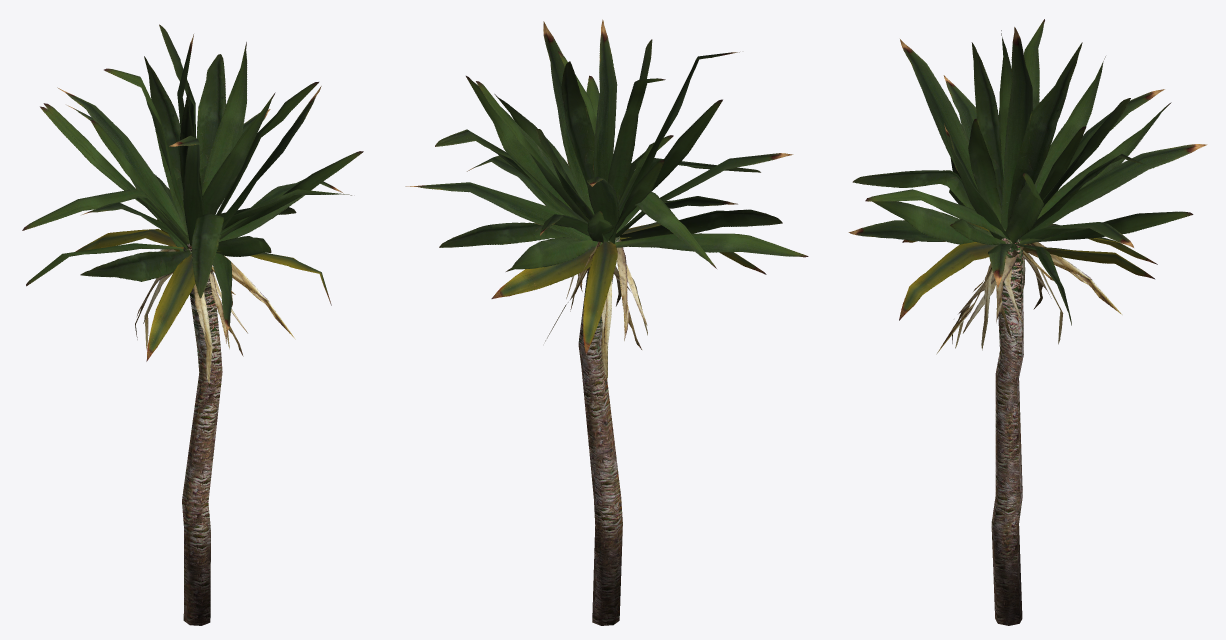
Rendered from MK4_Yucca1.DAE.
The picture shows the model from 3 angles, left to right: view 1: azimuth 30°, elevation 25°; view 2: azimuth 150°, elevation 25°; view 3: azimuth 270°, elevation 25°; orthographic projection. The views are drawn at different scales.
Parts seen in each view (by area): view 1: Mk4_Yucca1; view 2: Mk4_Yucca1; view 3: Mk4_Yucca1.
Part boxes in pixels (x1,y1,x2,y2): Mk4_Yucca1: (22, 24, 363, 625); Mk4_Yucca1: (405, 19, 808, 625); Mk4_Yucca1: (848, 19, 1207, 625).
Size of what is drawn, in the model's own units: 7.28 by 6.87 by 12.33.
